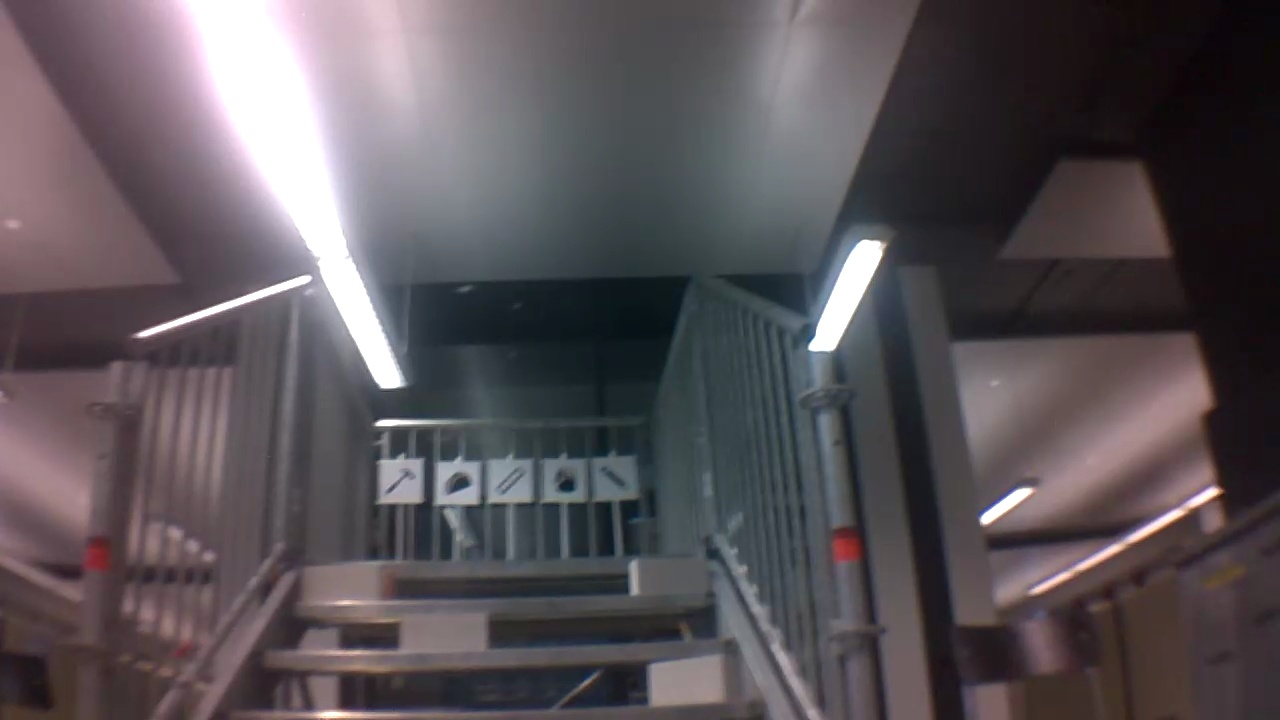brick: (647, 656, 739, 701), (401, 611, 487, 649), (301, 563, 392, 597), (630, 558, 705, 591)
bucket: (550, 463, 579, 496)
edge: (257, 639, 749, 666), (289, 592, 714, 616), (301, 555, 713, 576)
hammer: (382, 466, 419, 497)
pencil: (595, 462, 630, 494)
ruler: (488, 463, 527, 497)
stairs: (76, 276, 886, 715)
taco: (437, 469, 475, 498)
